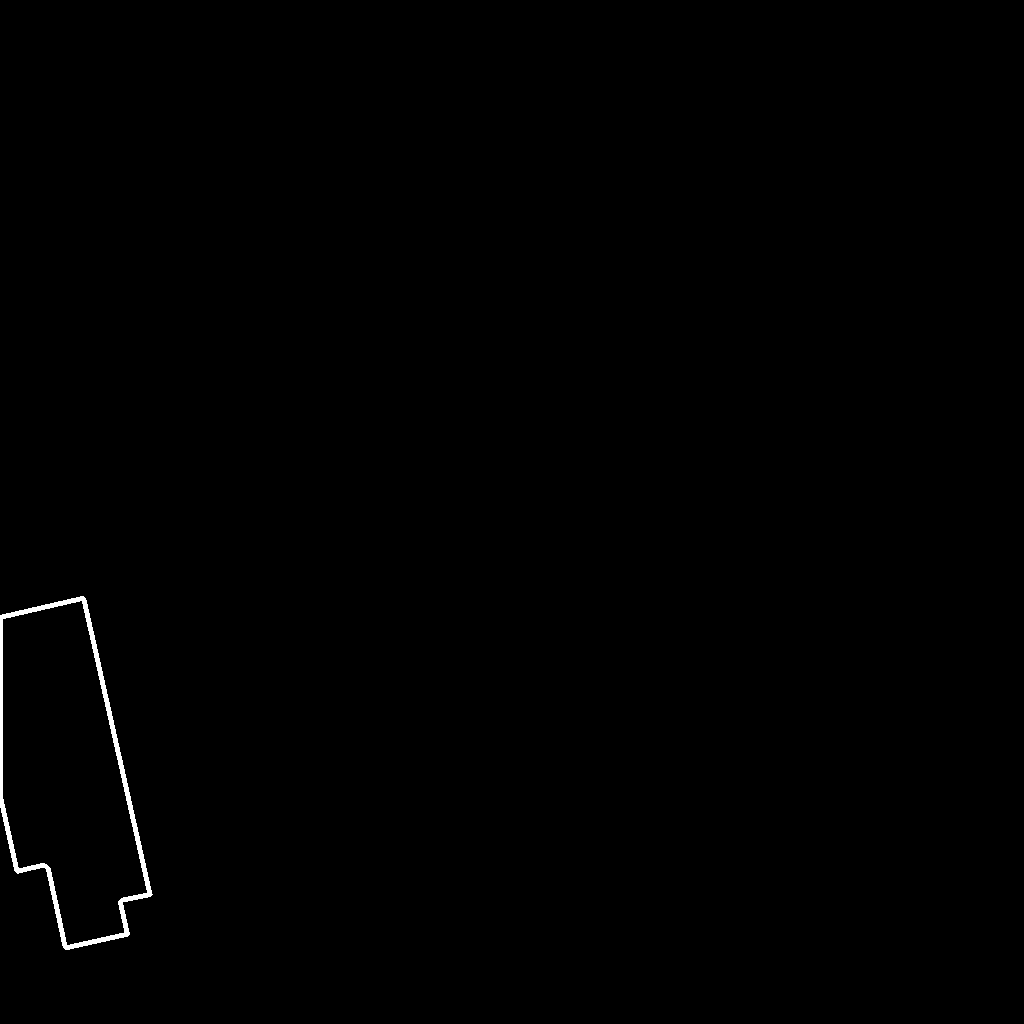building: (0, 598, 151, 949)
